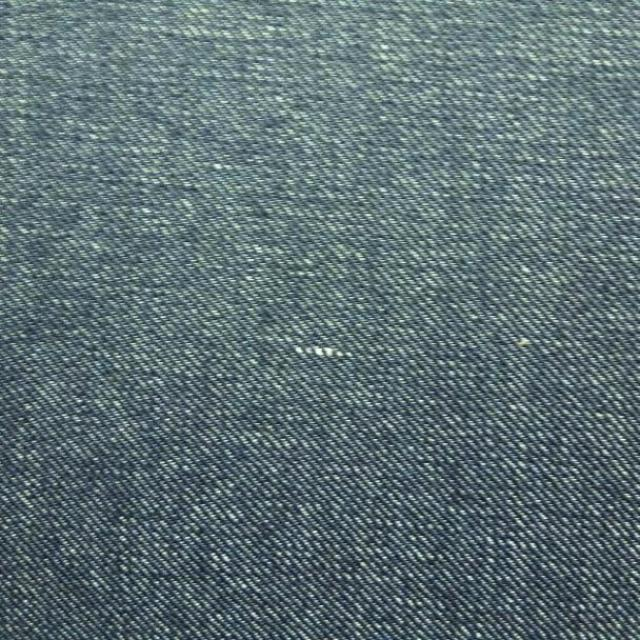Knot: (295, 347, 353, 358)
